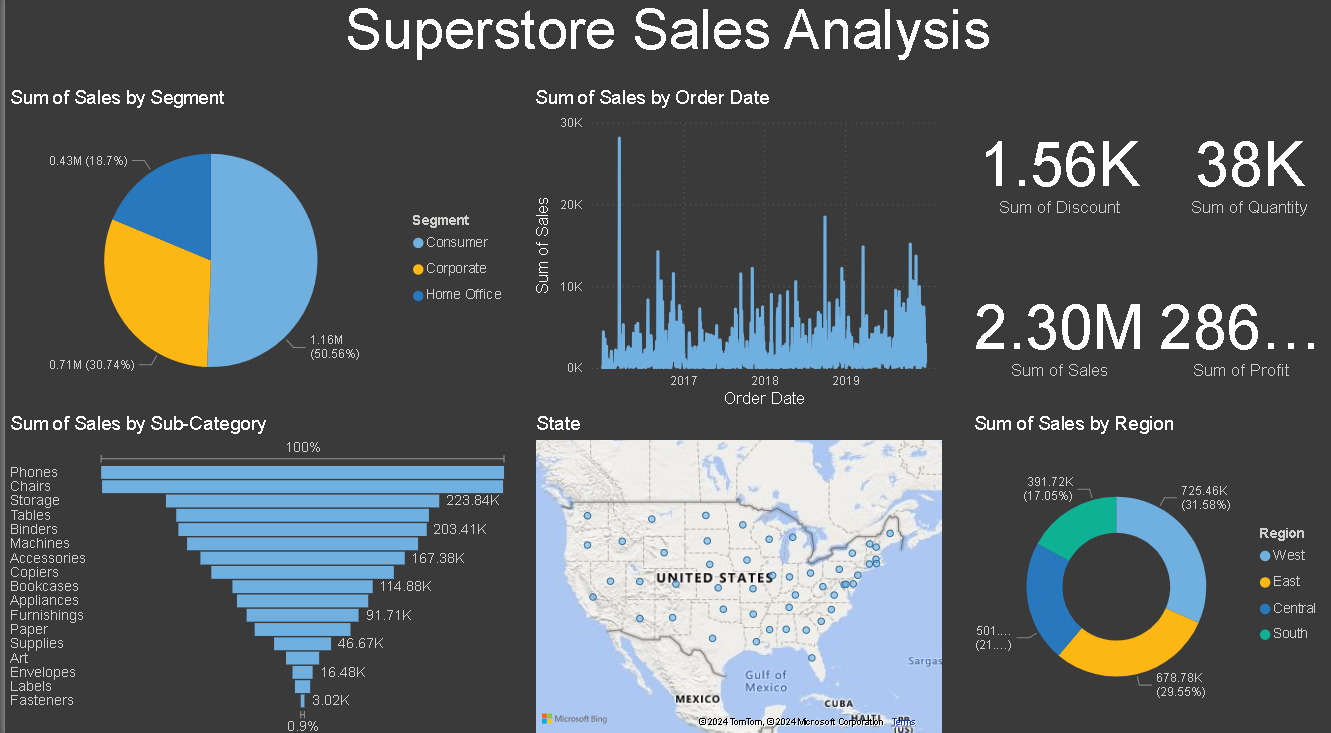

This screenshot's page, from the dashboard's own definition file:
{"tool":"powerbi","page":{"name":"Page 3","canvas":[1280,720],"ordinal":2},"visuals":[{"type":"donutChart","fields":{"Category":["Orders.Region"],"Y":["Sum(Orders.Sales)"]},"box":[930.4,405.7,349.3,314.8],"z":0},{"type":"funnel","fields":{"Category":["Orders.Sub-Category"],"Y":["Sum(Orders.Sales)"]},"box":[0,405.7,491.8,314.8],"z":1000},{"type":"map","fields":{"Category":["Orders.State"]},"box":[507.5,405.7,401,314.8],"z":2000},{"type":"pieChart","fields":{"Category":["Orders.Segment"],"Y":["Sum(Orders.Sales)"]},"box":[0,90.8,491.8,314.8],"z":3000},{"type":"lineChart","fields":{"Category":["Orders.Order Date"],"Y":["Sum(Orders.Sales)"]},"box":[507,91,401,315],"z":4000},{"type":"card","fields":{"Values":["Sum(Orders.Sales)"]},"box":[930.4,249,175.4,156.6],"z":5000},{"type":"card","fields":{"Values":["Sum(Orders.Profit)"]},"box":[1105.8,249,173.9,156.6],"z":6000},{"type":"card","fields":{"Values":["Sum(Orders.Quantity)"]},"box":[1121.8,91,158.2,158],"z":7000},{"type":"card","fields":{"Values":["Sum(Orders.Discount)"]},"box":[930.4,91,175.4,158],"z":8000},{"type":"textbox","box":[0,0,1279.7,91],"z":9000}]}

Visuals, with their boxes in screenshot pixels (x1, y1, x2, y2), scaled from the page's 1280x720 canvas onto the 1331x733 screenshot:
donutChart - Orders.Region x Sum(Orders.Sales): (967,413,1330,732)
funnel - Orders.Sub-Category x Sum(Orders.Sales): (0,413,511,732)
map - Orders.State: (528,413,945,732)
pieChart - Orders.Segment x Sum(Orders.Sales): (0,92,511,413)
lineChart - Orders.Order Date x Sum(Orders.Sales): (527,93,944,413)
card - Sum(Orders.Sales): (967,253,1150,413)
card - Sum(Orders.Profit): (1150,253,1330,413)
card - Sum(Orders.Quantity): (1166,93,1330,253)
card - Sum(Orders.Discount): (967,93,1150,253)
textbox: (0,0,1330,93)
